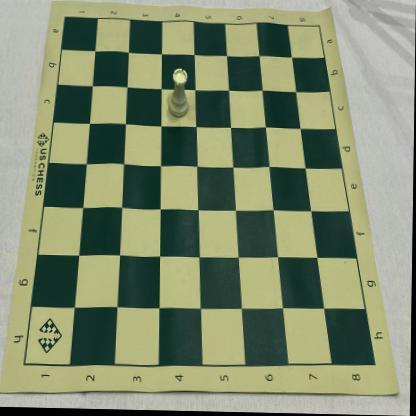white-rook: (168, 69, 190, 120)
